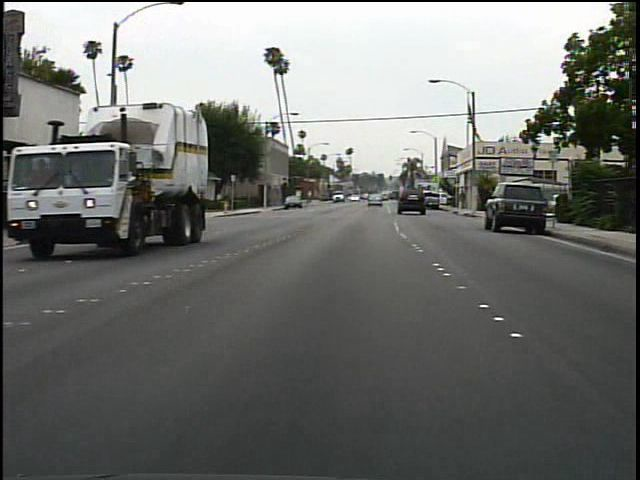person: (454, 186, 471, 215)
